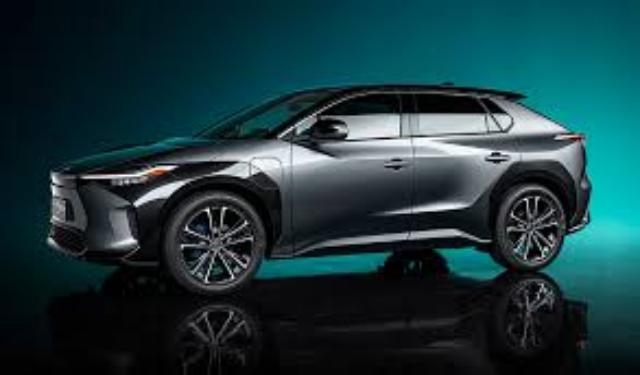toyota: (45, 80, 592, 298)
